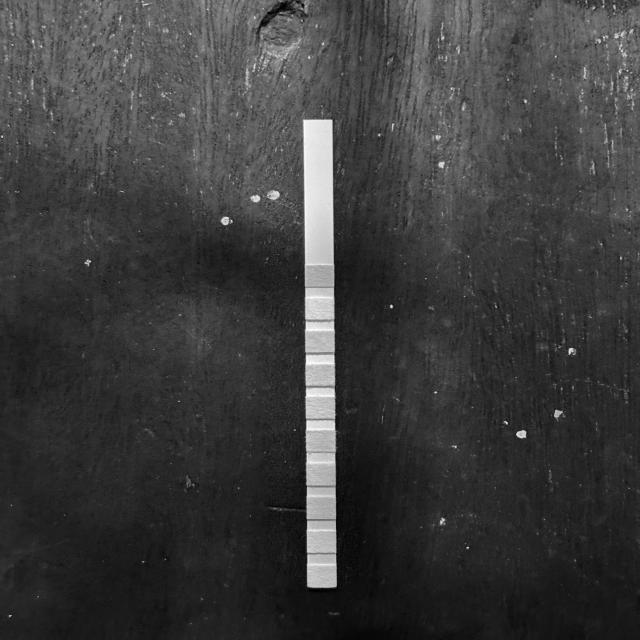Bilirubin: (307, 299, 333, 319)
Blood: (307, 398, 334, 418)
Glucose: (307, 266, 334, 286)
Ketone: (306, 332, 335, 352)
Leukocytes: (308, 566, 336, 586)
Nitrite: (308, 532, 335, 552)
Protein: (308, 464, 335, 485)
SpGravity: (307, 365, 334, 385)
Urobilinogen: (308, 497, 335, 519)
background: (0, 0, 640, 640)
pH: (308, 431, 334, 452)
strip: (304, 120, 336, 588)
